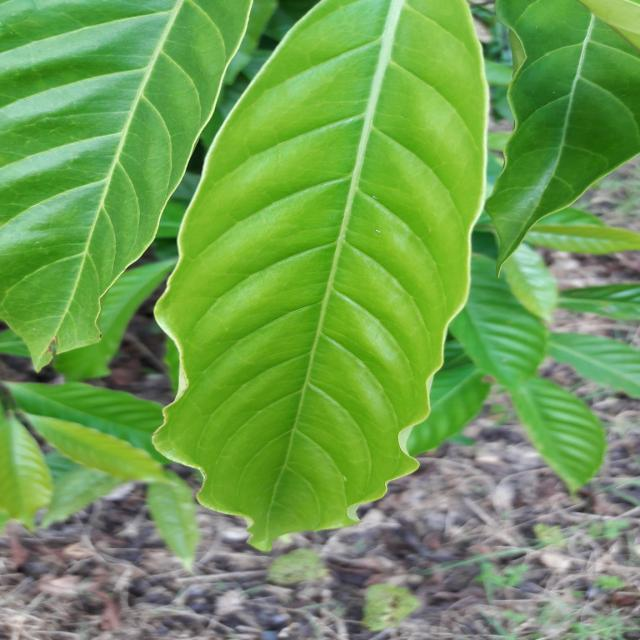Sanas: (148, 0, 492, 553)
